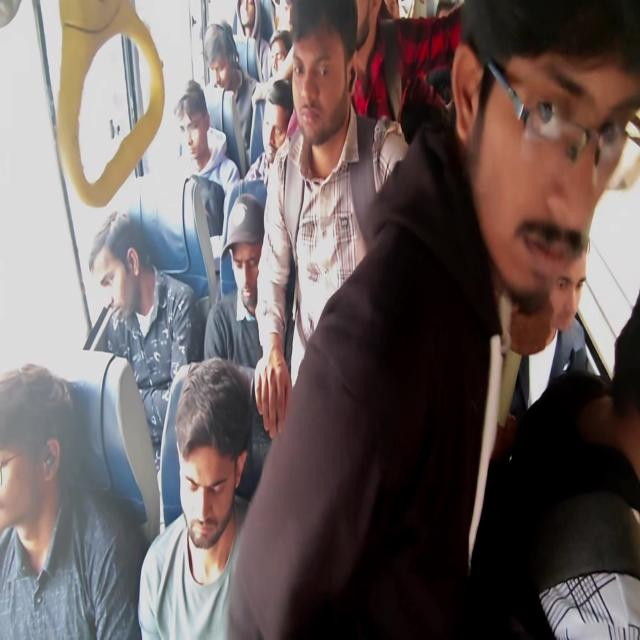person: (470, 242, 638, 632), (257, 6, 390, 425), (0, 358, 148, 638), (474, 42, 628, 302), (348, 1, 460, 135), (461, 2, 634, 86), (175, 81, 240, 244), (288, 1, 357, 145), (175, 356, 252, 466), (245, 78, 295, 188), (204, 288, 266, 372), (88, 212, 139, 279), (173, 79, 208, 128), (232, 36, 265, 86), (269, 28, 293, 78), (208, 47, 234, 89), (353, 0, 377, 45), (434, 0, 461, 19), (279, 0, 295, 30), (381, 0, 400, 19), (220, 18, 234, 38)
